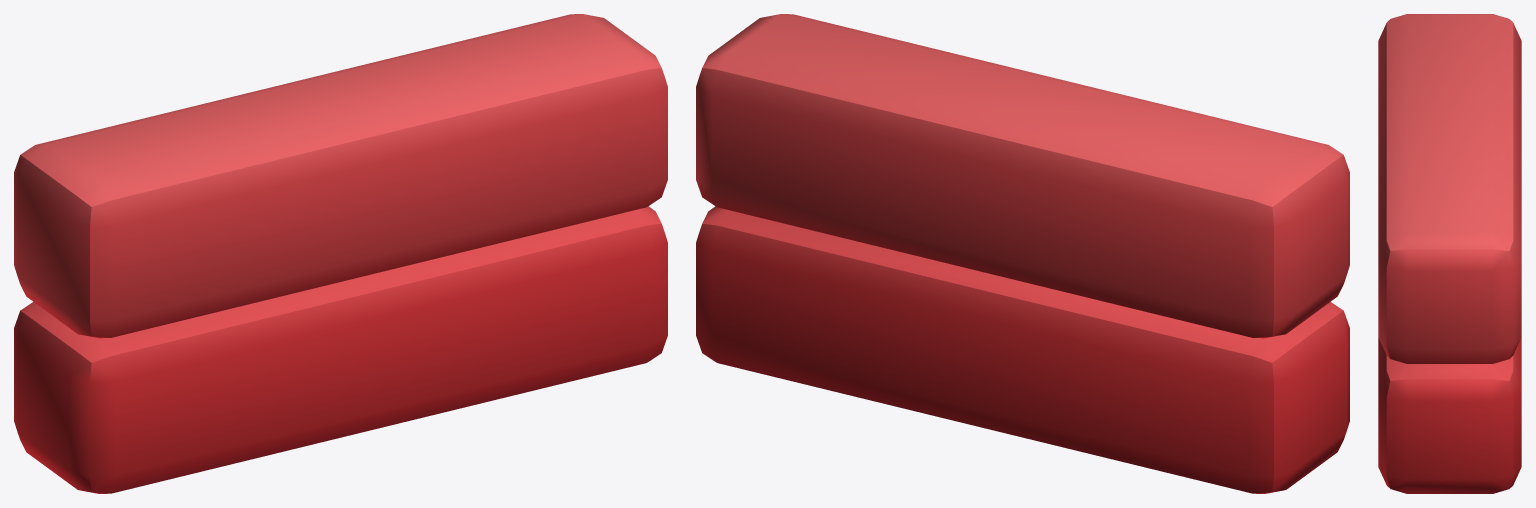
File: barrier_4x1x2_red.glb
3 views of the same model, side by side, from view 1: azimuth 30°, elevation 25°; view 2: azimuth 150°, elevation 25°; view 3: azimuth 270°, elevation 25° (orthographic). The views are drawn at different scales.
Visible parts, largest first — view 1: barrier_4x1x2_red; view 2: barrier_4x1x2_red; view 3: barrier_4x1x2_red.
Boxes of the visible parts, x1,y1,x2,y2 form: barrier_4x1x2_red: (14, 14, 667, 493); barrier_4x1x2_red: (696, 14, 1349, 493); barrier_4x1x2_red: (1378, 14, 1521, 493).
Bounding box in the file's own units: 4 × 2 × 1.
Materials: 1 (1 with a texture image).
